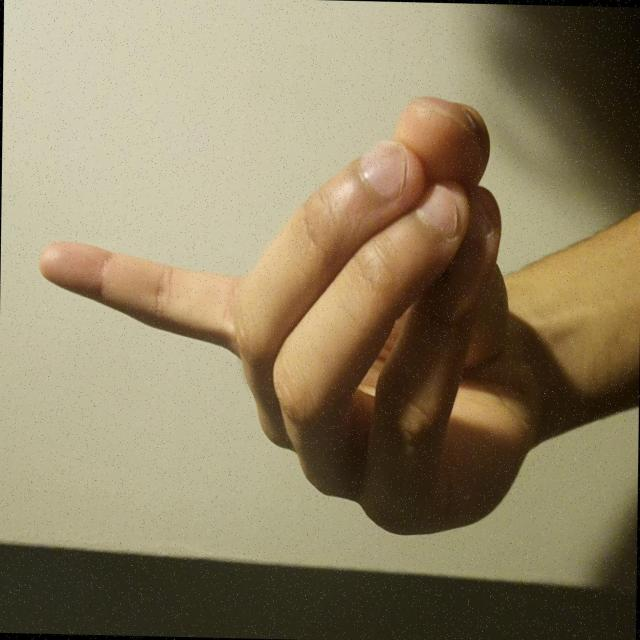D: (71, 39, 422, 640)
